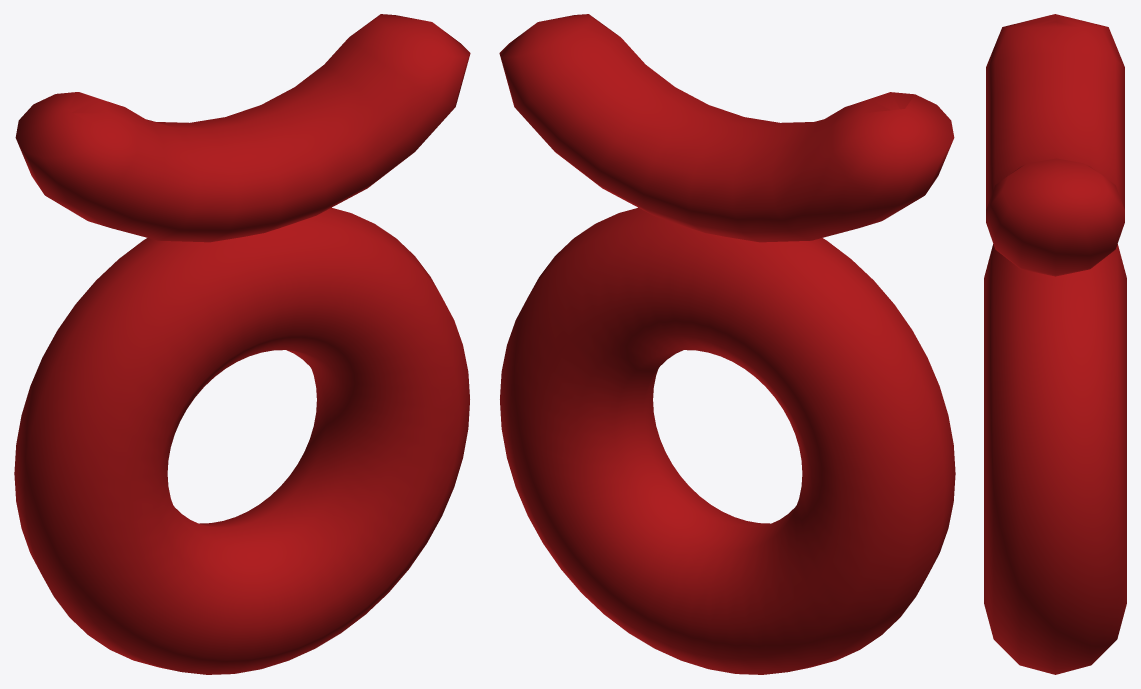
3 views of the same model, side by side, from view 1: azimuth 30°, elevation 25°; view 2: azimuth 150°, elevation 25°; view 3: azimuth 270°, elevation 25° (orthographic). The views are drawn at different scales.
Parts seen in each view (by area): view 1: Node1, Node2; view 2: Node1, Node2; view 3: Node1, Node2.
Boxes of the visible parts, <box> form: Node1: <box>14,207,469,674</box>; Node2: <box>15,14,470,242</box>; Node1: <box>500,207,955,674</box>; Node2: <box>499,14,954,242</box>; Node1: <box>984,244,1126,674</box>; Node2: <box>986,14,1124,276</box>.
Bounding box in the file's own units: 3.29 × 4.33 × 1.
